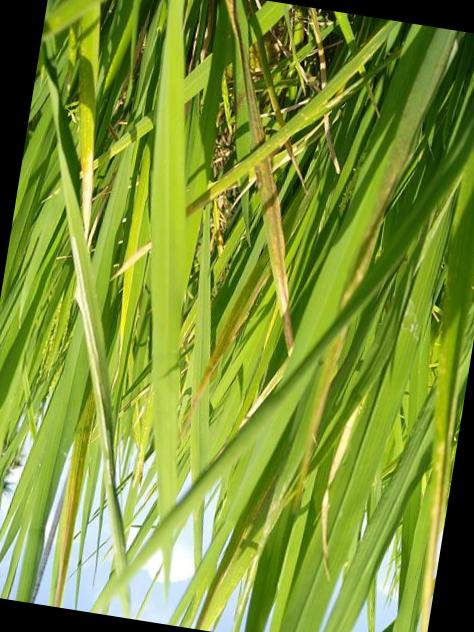Leaf Streak: (340, 28, 441, 305), (186, 76, 350, 216), (196, 460, 287, 631), (189, 269, 267, 414), (70, 231, 113, 479), (291, 325, 347, 514), (255, 157, 294, 354), (50, 429, 92, 608), (420, 438, 457, 632), (243, 60, 265, 144), (110, 241, 151, 279), (79, 152, 93, 239)
